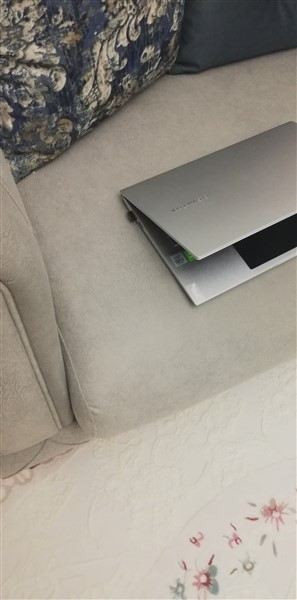laptop: (117, 91, 297, 313)
